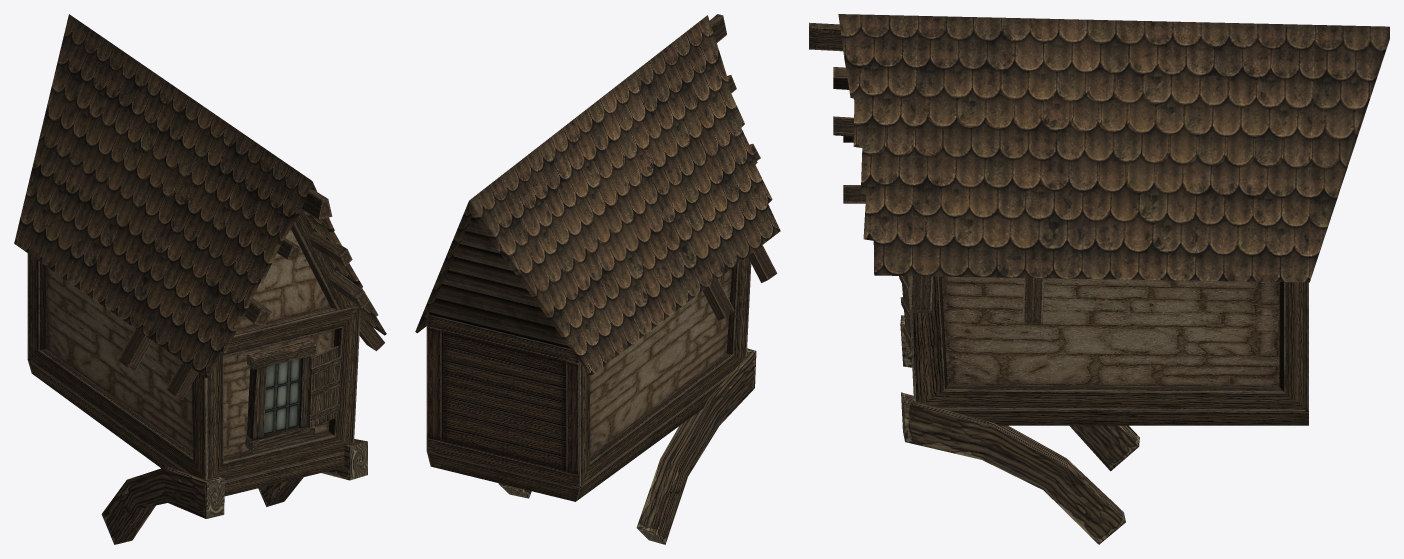
Rendered from Window_b08.fbx.
3 views of the same model, side by side, from view 1: azimuth 30°, elevation 25°; view 2: azimuth 150°, elevation 25°; view 3: azimuth 270°, elevation 25° (orthographic). The views are drawn at different scales.
Parts seen in each view (by area): view 1: Window_b08; view 2: Window_b08; view 3: Window_b08.
Boxes of the visible parts, x1=… form: Window_b08: x1=14, y1=14, x2=386, y2=544; Window_b08: x1=415, y1=14, x2=780, y2=544; Window_b08: x1=809, y1=14, x2=1389, y2=544.
Size of the model in its own units: 3.76 by 7.24 by 7.76.
